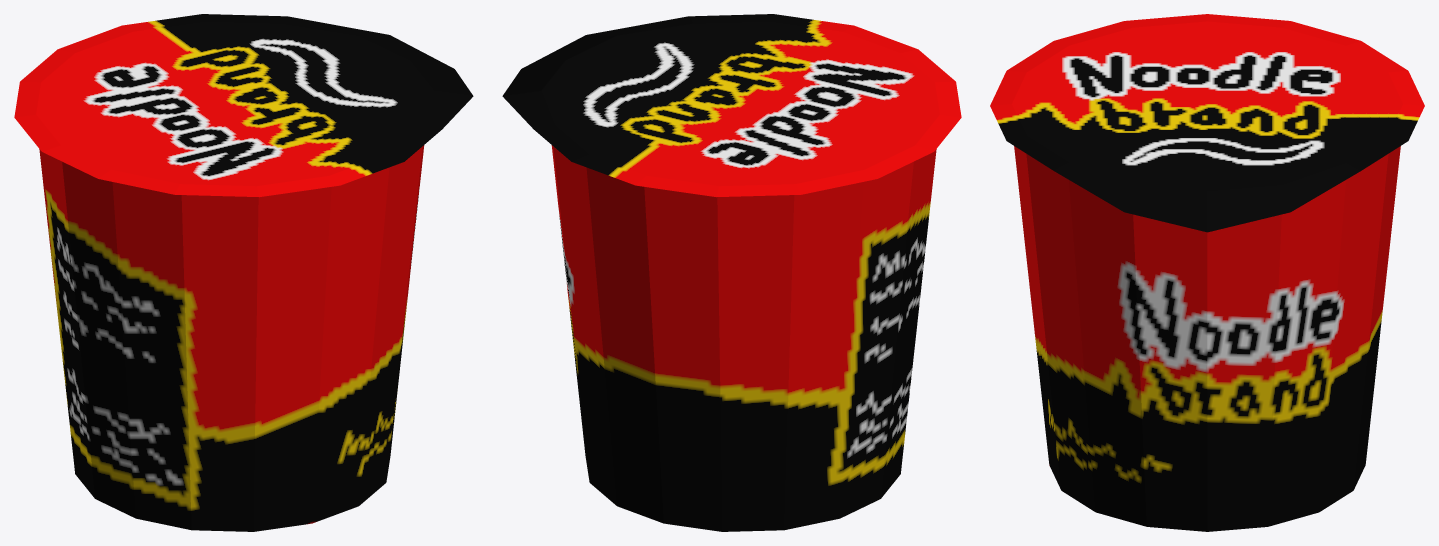
Rendered from Noodles.fbx.
3 renders of one model, left to right at view 1: azimuth 30°, elevation 25°; view 2: azimuth 150°, elevation 25°; view 3: azimuth 270°, elevation 25°, orthographic.
Parts seen in each view (by area): view 1: Cylinder; view 2: Cylinder; view 3: Cylinder.
Boxes of the visible parts, x1,y1,x2,y2 form: Cylinder: [14, 14, 473, 531]; Cylinder: [502, 14, 961, 531]; Cylinder: [990, 14, 1424, 531].
Size of the model in its own units: 240 by 201 by 220.
